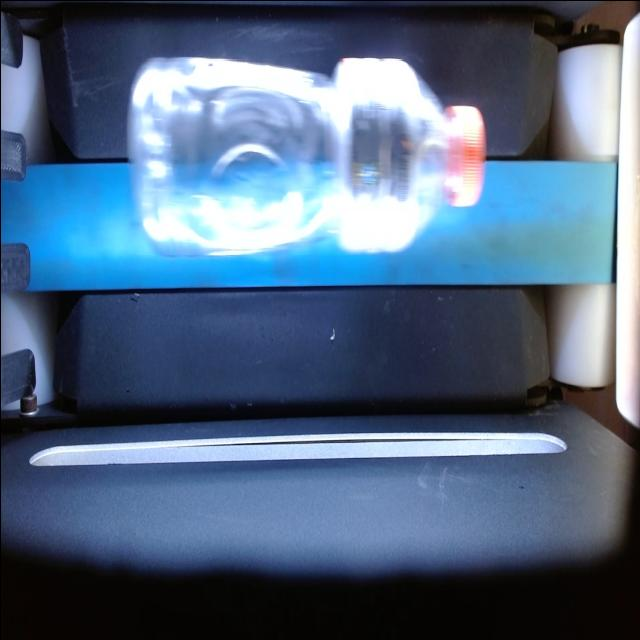bottle: (128, 59, 483, 253)
